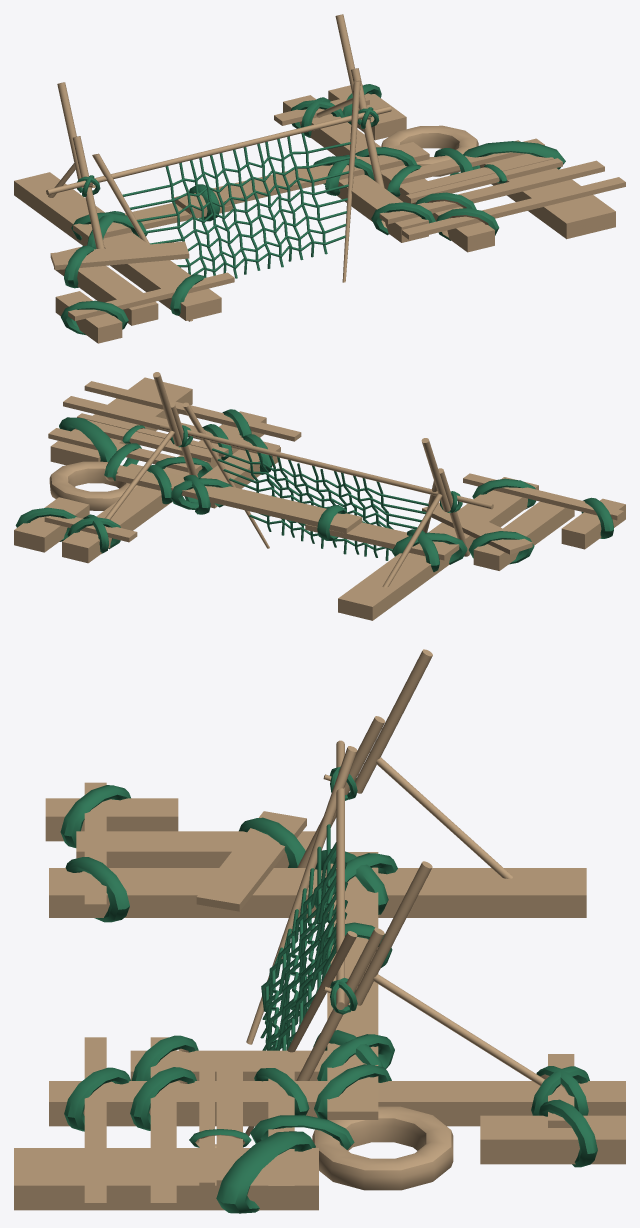
File: Resource_Net-shifted.fbx
The picture shows the model from 3 angles, top to bottom: view 1: azimuth 30°, elevation 25°; view 2: azimuth 150°, elevation 25°; view 3: azimuth 270°, elevation 25°; orthographic projection. The views are drawn at different scales.
Visible parts, largest first — view 1: Resource_Net; view 2: Resource_Net; view 3: Resource_Net.
Part boxes in pixels (box(x1,y1,x2,y2)): Resource_Net: box(14, 14, 625, 343); Resource_Net: box(14, 372, 625, 620); Resource_Net: box(14, 649, 625, 1213).
Bounding box in the file's own units: 141 × 52.77 × 86.57.
